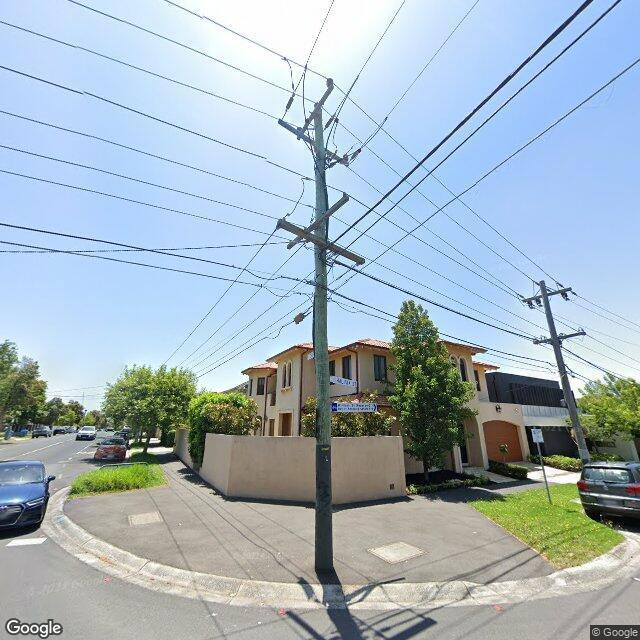HV-transmission: (278, 57, 390, 168)
crossarm: (276, 213, 366, 265), (286, 192, 350, 251), (278, 118, 349, 168), (298, 86, 334, 140), (519, 282, 577, 310), (532, 327, 587, 345)
timber-pole: (538, 280, 591, 464), (314, 105, 334, 571)
